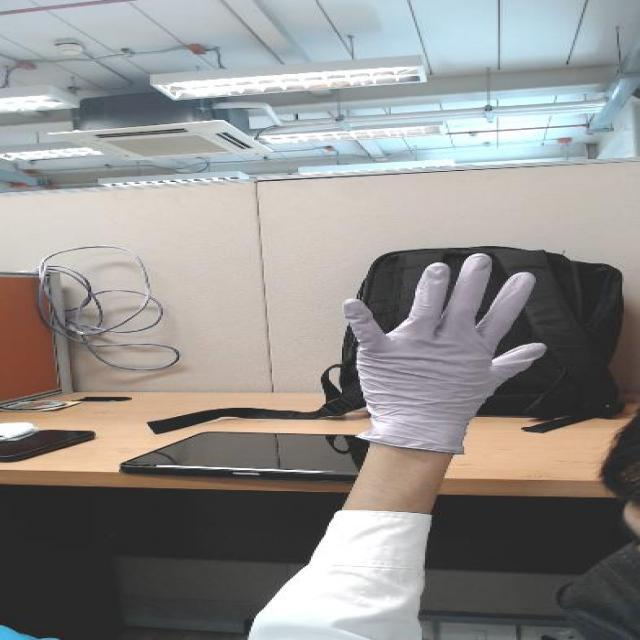with_gloves: (326, 253, 584, 396)
